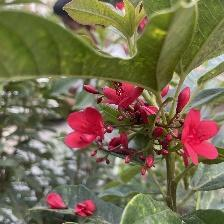jatropha: (180, 108, 224, 169), (66, 104, 109, 153)
